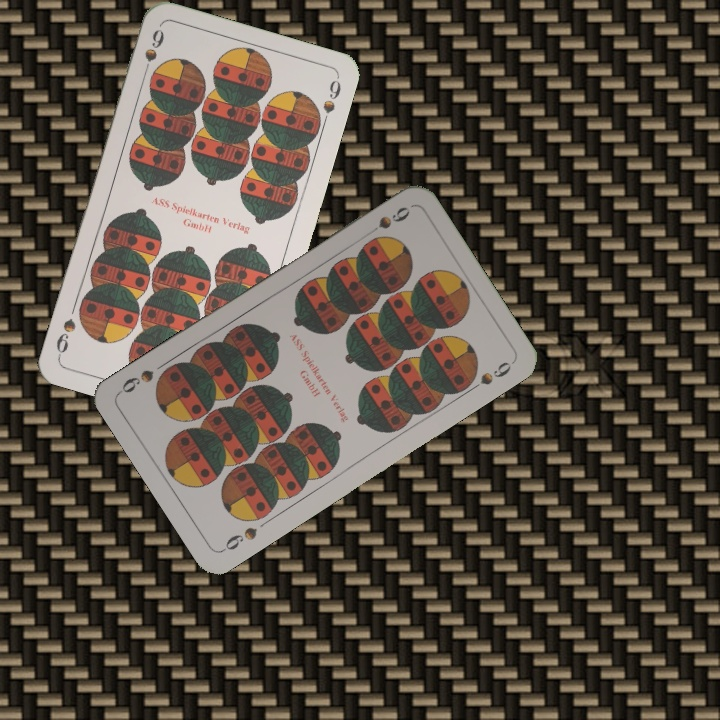S9: (363, 202, 413, 237), (138, 25, 167, 82), (218, 522, 260, 554)
